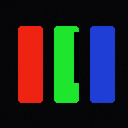4 line_v: (74, 32, 78, 82)
